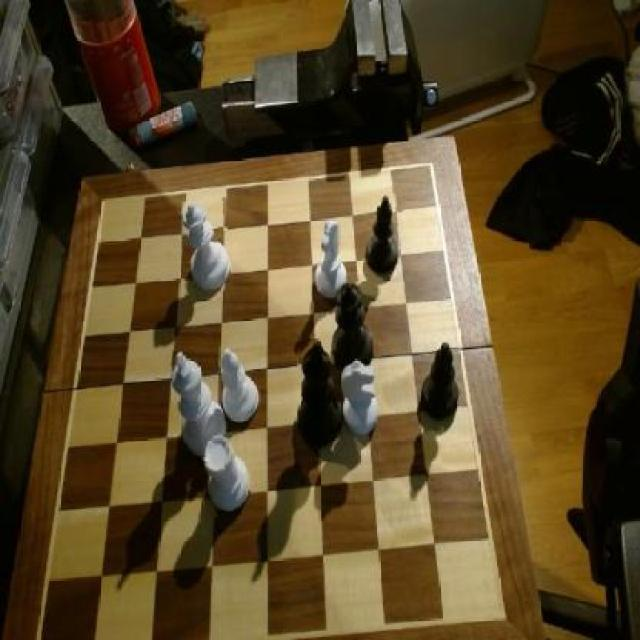bishop: (420, 340, 461, 432), (365, 192, 402, 278)
black-bishop: (294, 338, 346, 450)
black-pawn: (329, 282, 375, 374)
black-rook: (219, 346, 263, 424)
white-bishop: (169, 350, 223, 458)
white-king: (338, 358, 381, 438), (314, 218, 352, 302)
white-pawn: (182, 200, 232, 295)
white-queen: (200, 434, 251, 517)
